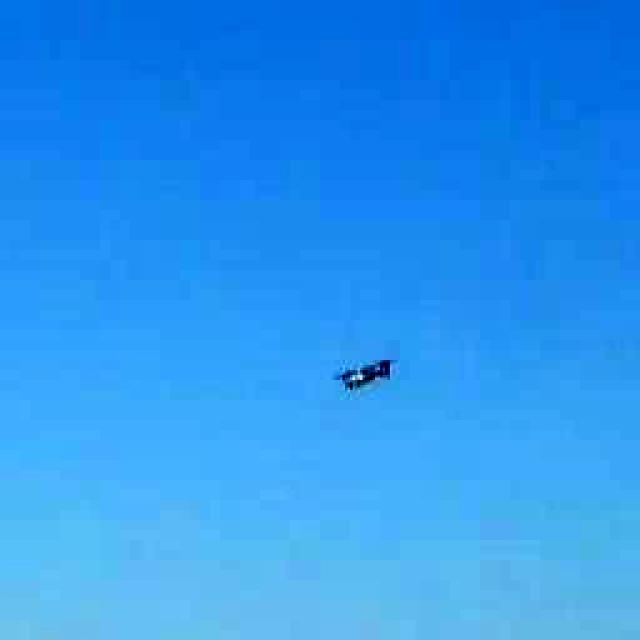bird: (310, 339, 415, 406)
